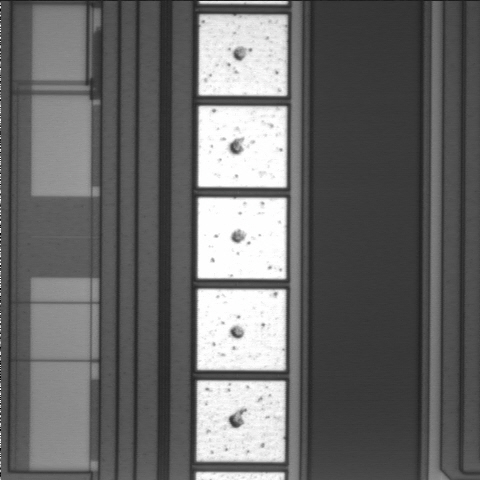pad: (197, 197, 287, 279), (198, 106, 287, 188), (197, 289, 286, 370), (196, 381, 285, 462), (199, 15, 287, 96)
